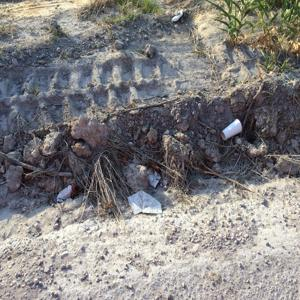cardboard: (216, 118, 249, 145)
plastic: (120, 187, 166, 217)
